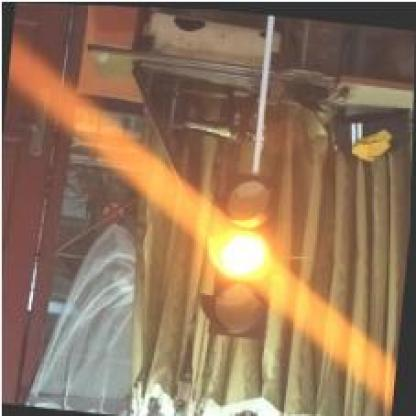yellow: (199, 171, 281, 338)
